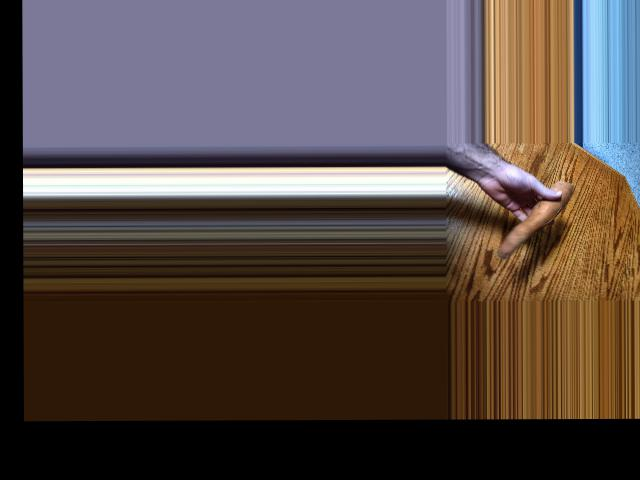sweet_potato: (498, 179, 571, 257)
